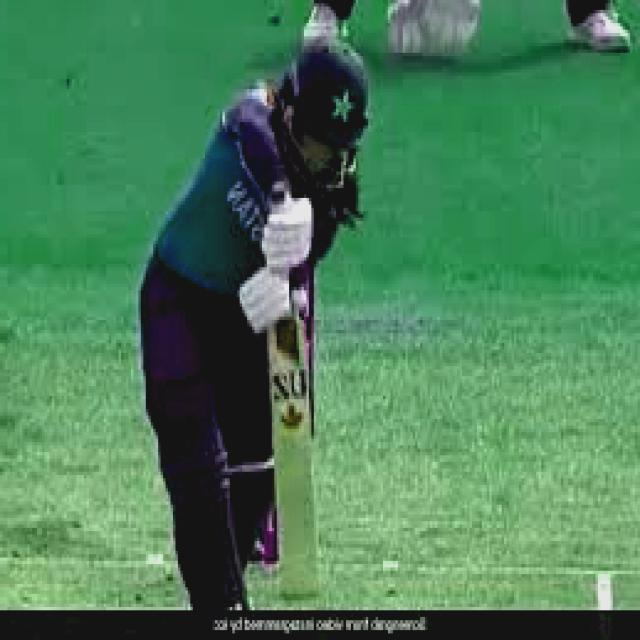toe: (273, 524, 324, 602)
